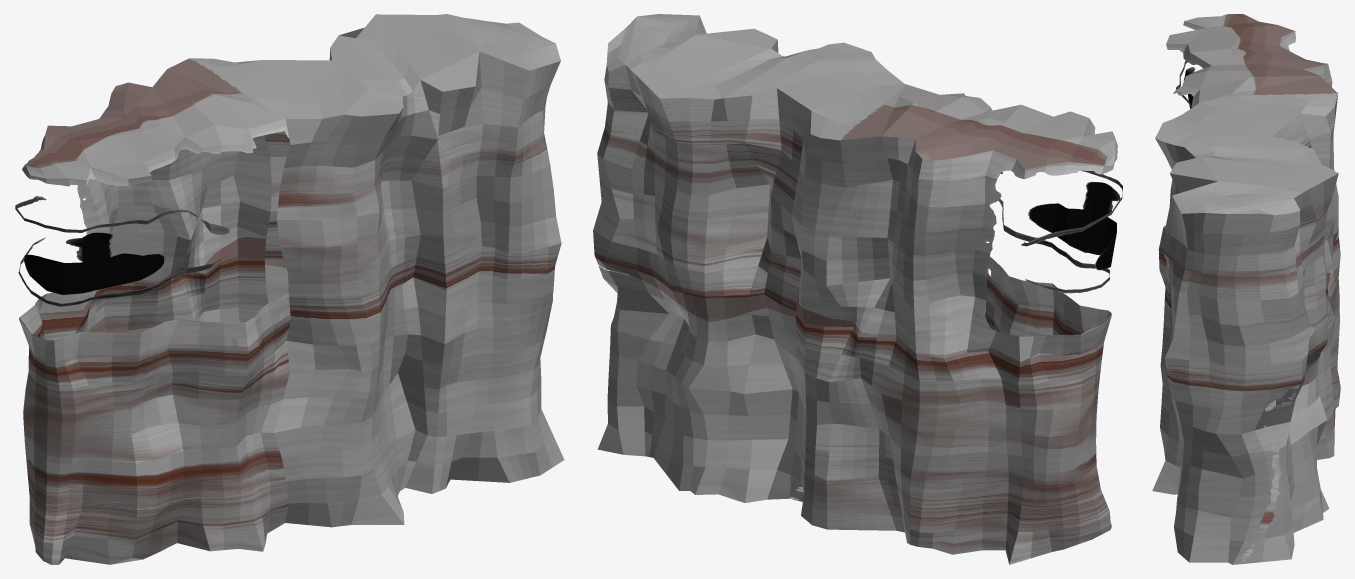
File: textured cliff.fbx
3 renders of one model, left to right at view 1: azimuth 30°, elevation 25°; view 2: azimuth 150°, elevation 25°; view 3: azimuth 270°, elevation 25°, orthographic. The views are drawn at different scales.
Visible parts, largest first — view 1: cliff 2; view 2: cliff 2; view 3: cliff 2.
Part boxes in pixels (left/top/right/bottom): cliff 2: left=15, top=14, right=564, bottom=564; cliff 2: left=593, top=14, right=1122, bottom=564; cliff 2: left=1152, top=14, right=1340, bottom=564.
Bounding box in the file's own units: 838 × 654 × 310.
